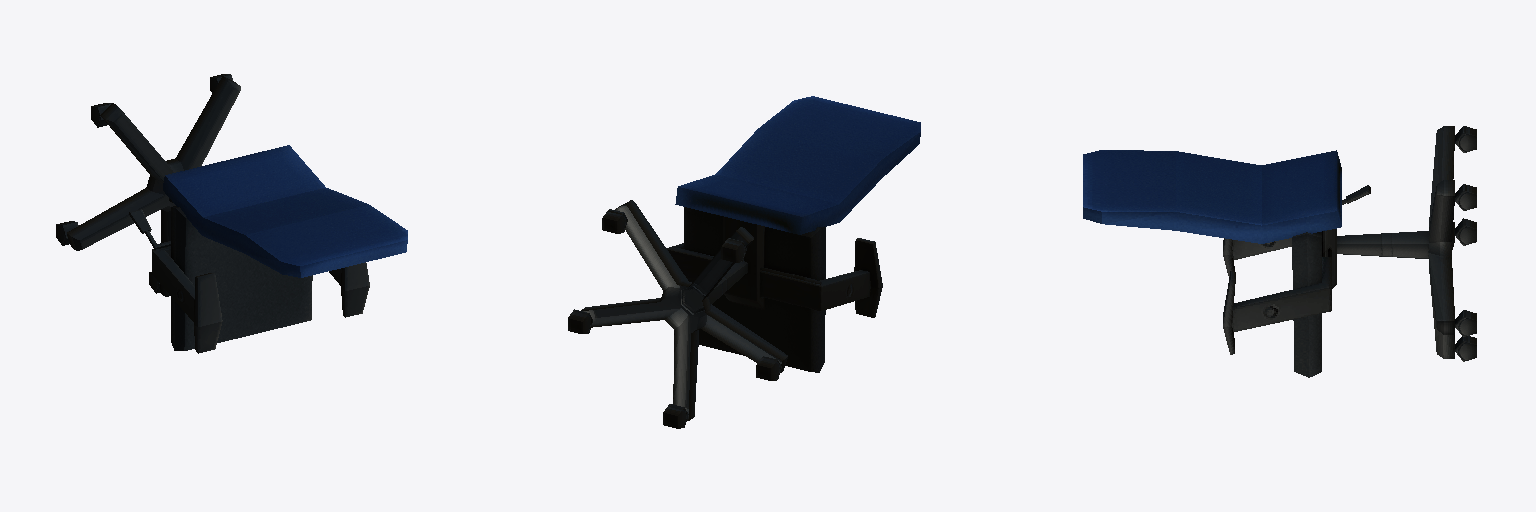
3 views of the same model, side by side, from view 1: azimuth 30°, elevation 25°; view 2: azimuth 150°, elevation 25°; view 3: azimuth 270°, elevation 25° (orthographic).
Visible parts, largest first — view 1: OfficeChairBlue; view 2: OfficeChairBlue; view 3: OfficeChairBlue.
Part boxes in pixels (bbox=[...]): OfficeChairBlue: bbox=[56, 74, 407, 353]; OfficeChairBlue: bbox=[568, 96, 920, 428]; OfficeChairBlue: bbox=[1083, 126, 1476, 377].
Bounding box in the file's own units: 0.7093 × 0.6834 × 1.19.
1 materials, 1 textured.